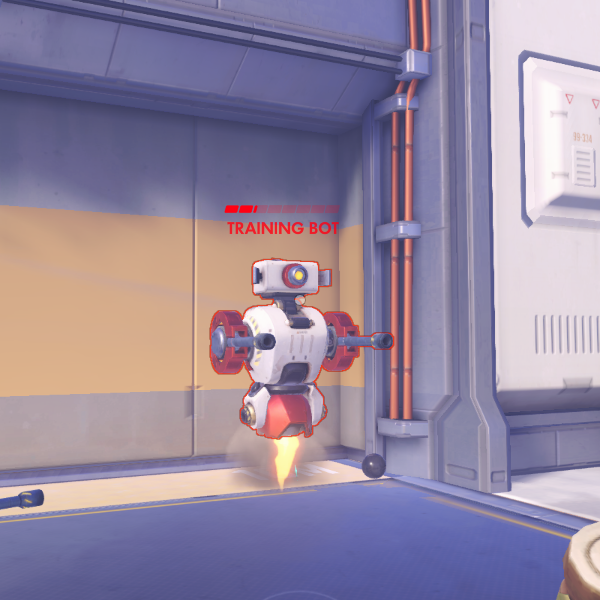hpbar: (224, 204, 341, 214)
